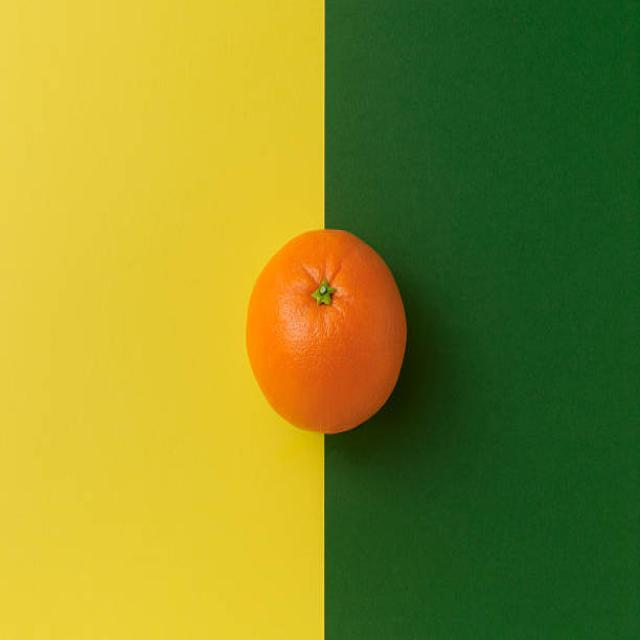orange: (247, 230, 406, 433)
